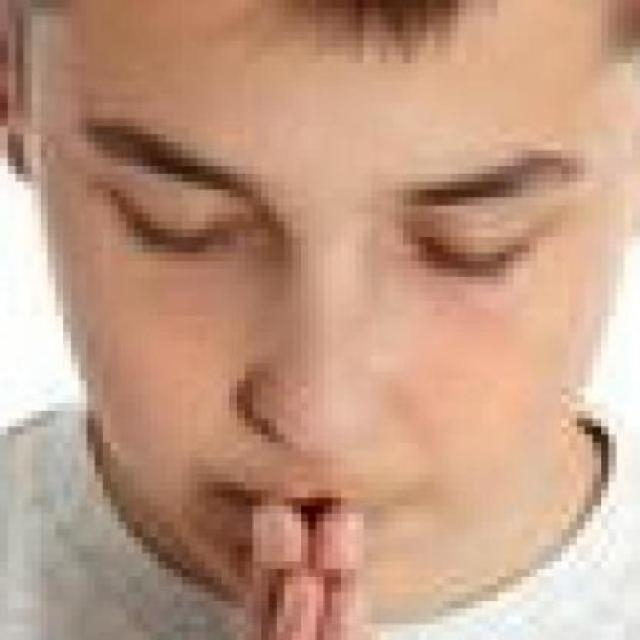drowsy: (418, 224, 538, 294), (125, 194, 253, 258)
